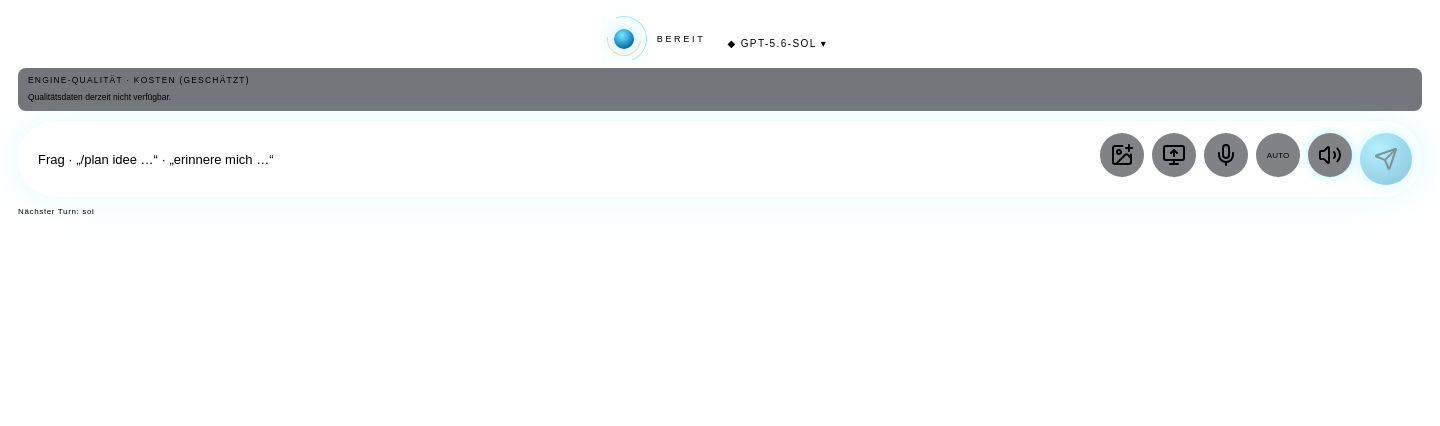
JarvisChat G2b Controller-Naht › ohne voiceMode (Default): Auto-TTS bei Toggle ON wie bisher
This screenshot has width=1440, height=426.
Type "lies vor" into the field named "Nachricht an Jarvis" at (564, 159), box [38,137,1090,181]
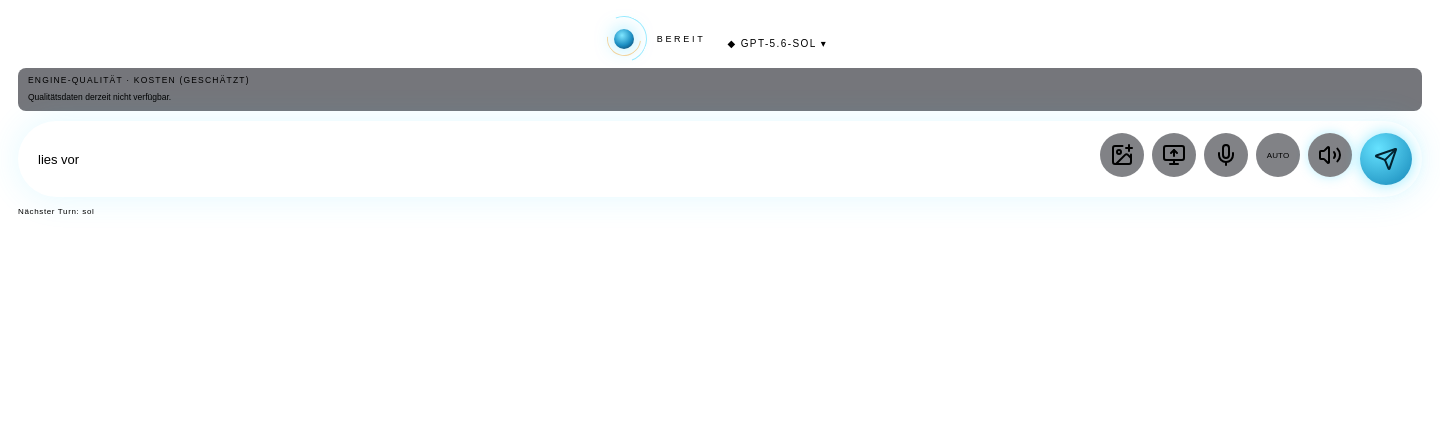
Click the button named "Nachricht senden" at (1386, 159), box [1360,133,1412,185]
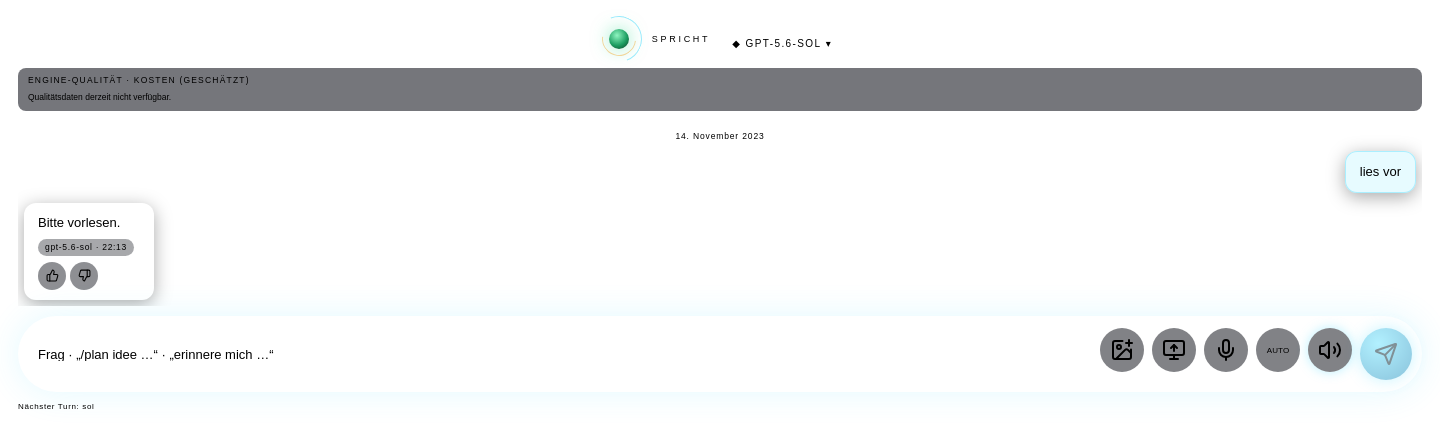
Expected: the text "Bitte vorlesen." is shown, [38,214,120,230]
